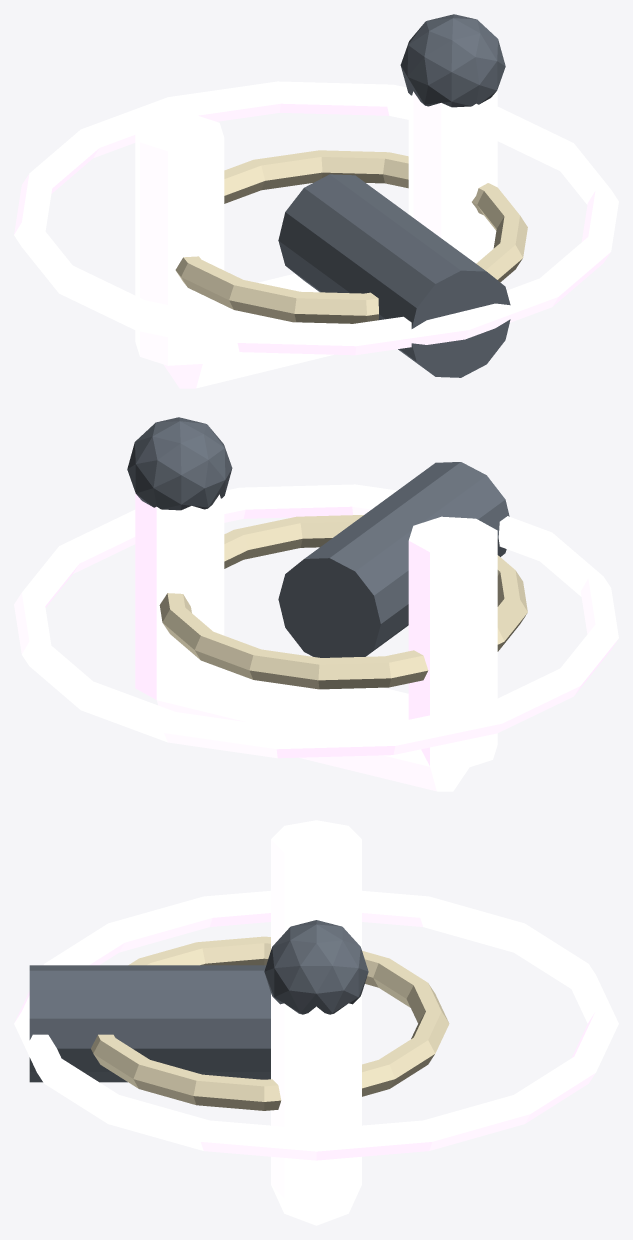
The model's file is iman_5.glb.
3 views of the same model, one above another, from view 1: azimuth 30°, elevation 25°; view 2: azimuth 150°, elevation 25°; view 3: azimuth 270°, elevation 25° (orthographic).
Parts seen in each view (by area): view 1: energia, mango, herradura_izq, bobina, herradura_der, polo, herradura_base; view 2: energia, mango, herradura_izq, bobina, herradura_der, herradura_base, polo; view 3: energia, mango, bobina, herradura_der, herradura_izq, polo, herradura_base.
Boxes of the visible parts, x1=… form: energia: x1=14, y1=81, x2=618, y2=355; mango: x1=278, y1=174, x2=510, y2=377; herradura_izq: x1=135, y1=113, x2=224, y2=365; bobina: x1=175, y1=150, x2=527, y2=323; herradura_der: x1=408, y1=90, x2=497, y2=263; polo: x1=400, y1=14, x2=505, y2=107; herradura_base: x1=164, y1=273, x2=333, y2=388; energia: x1=14, y1=484, x2=618, y2=758; mango: x1=278, y1=462, x2=509, y2=657; herradura_izq: x1=408, y1=516, x2=497, y2=768; bobina: x1=159, y1=515, x2=527, y2=689; herradura_der: x1=135, y1=493, x2=224, y2=699; herradura_base: x1=157, y1=662, x2=468, y2=791; polo: x1=127, y1=417, x2=232, y2=510; energia: x1=14, y1=890, x2=618, y2=1160; mango: x1=29, y1=965, x2=270, y2=1082; bobina: x1=91, y1=936, x2=449, y2=1110; herradura_der: x1=271, y1=993, x2=361, y2=1203; herradura_izq: x1=271, y1=820, x2=361, y2=949; polo: x1=264, y1=920, x2=368, y2=1014; herradura_base: x1=271, y1=1185, x2=361, y2=1225.
Size of the model in its own units: 0.9 by 0.4946 by 0.9.
